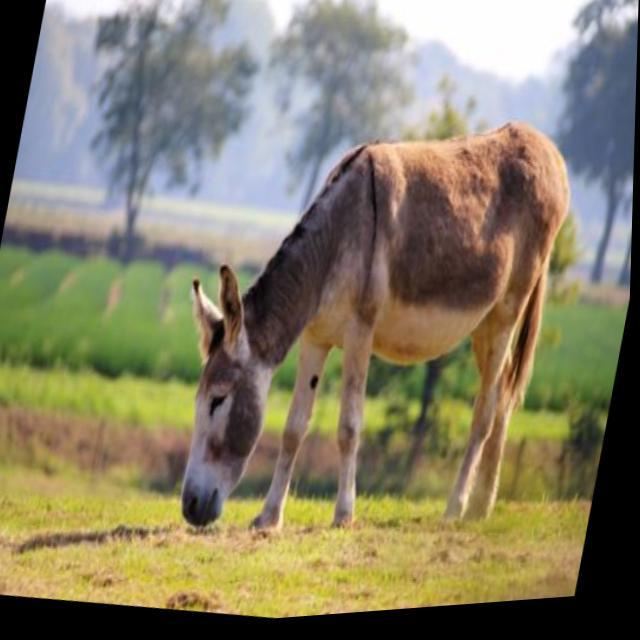Donkey: (148, 75, 588, 587)
